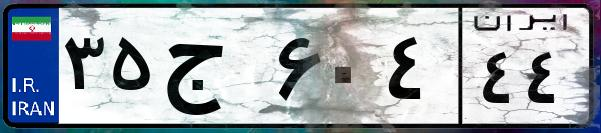0: (330, 28, 385, 110)
3: (57, 26, 110, 100)
4: (385, 28, 445, 110), (475, 38, 525, 113), (525, 38, 570, 115)
5: (110, 28, 158, 98)
6: (270, 28, 330, 110)
ج: (158, 20, 270, 120)
